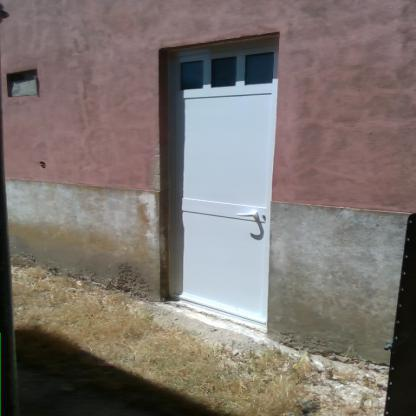door: (172, 57, 268, 324)
lever: (238, 212, 258, 219)
